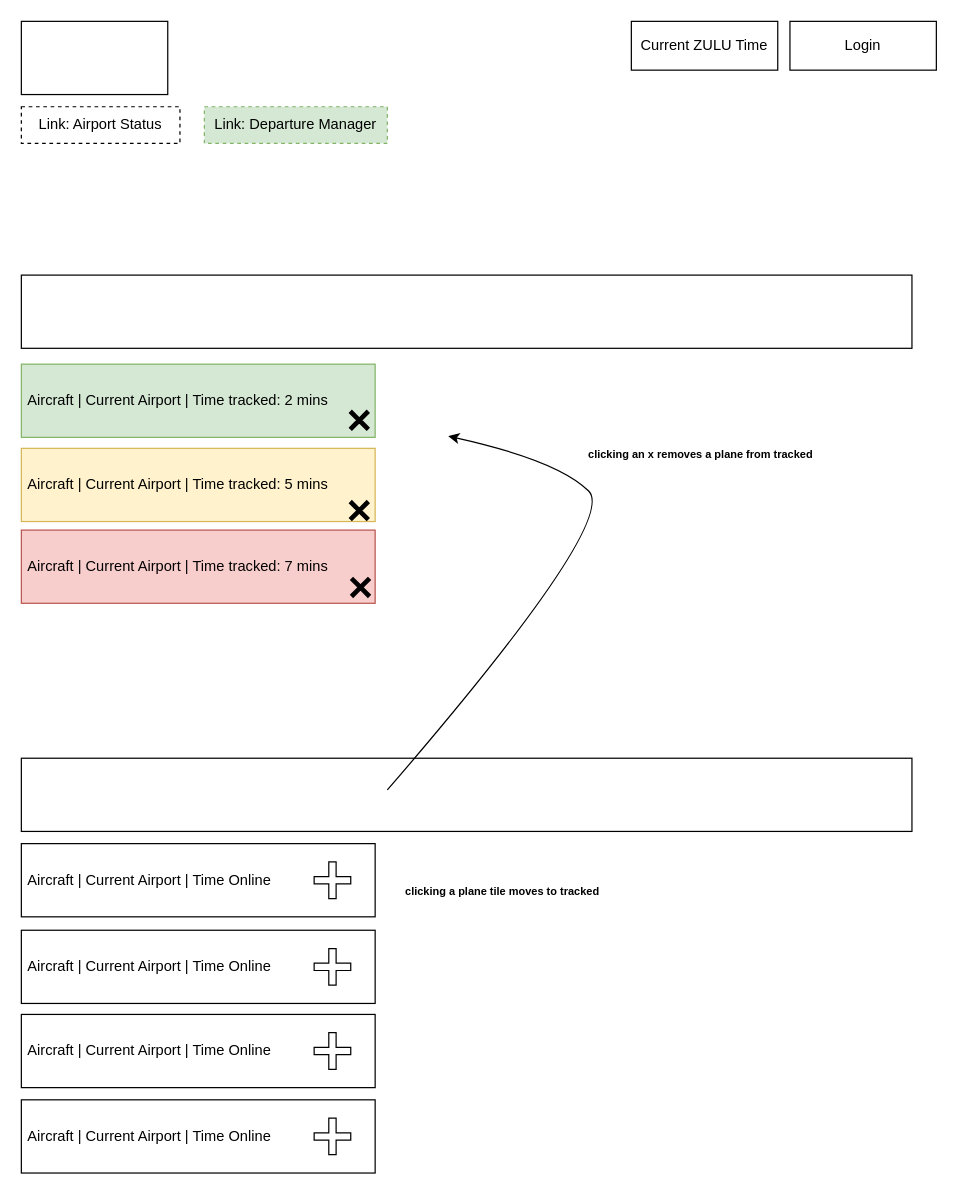
This 958x1194 diagram has some shape labels left out. The box of each missing label's shape, as (x1, y1, x2, y2) in pixels:
LOGO: (20, 20, 168, 95)
Not tracking: departures currently not tracking: (20, 757, 912, 831)
Tracking: departures currently tracking: (20, 274, 912, 348)
